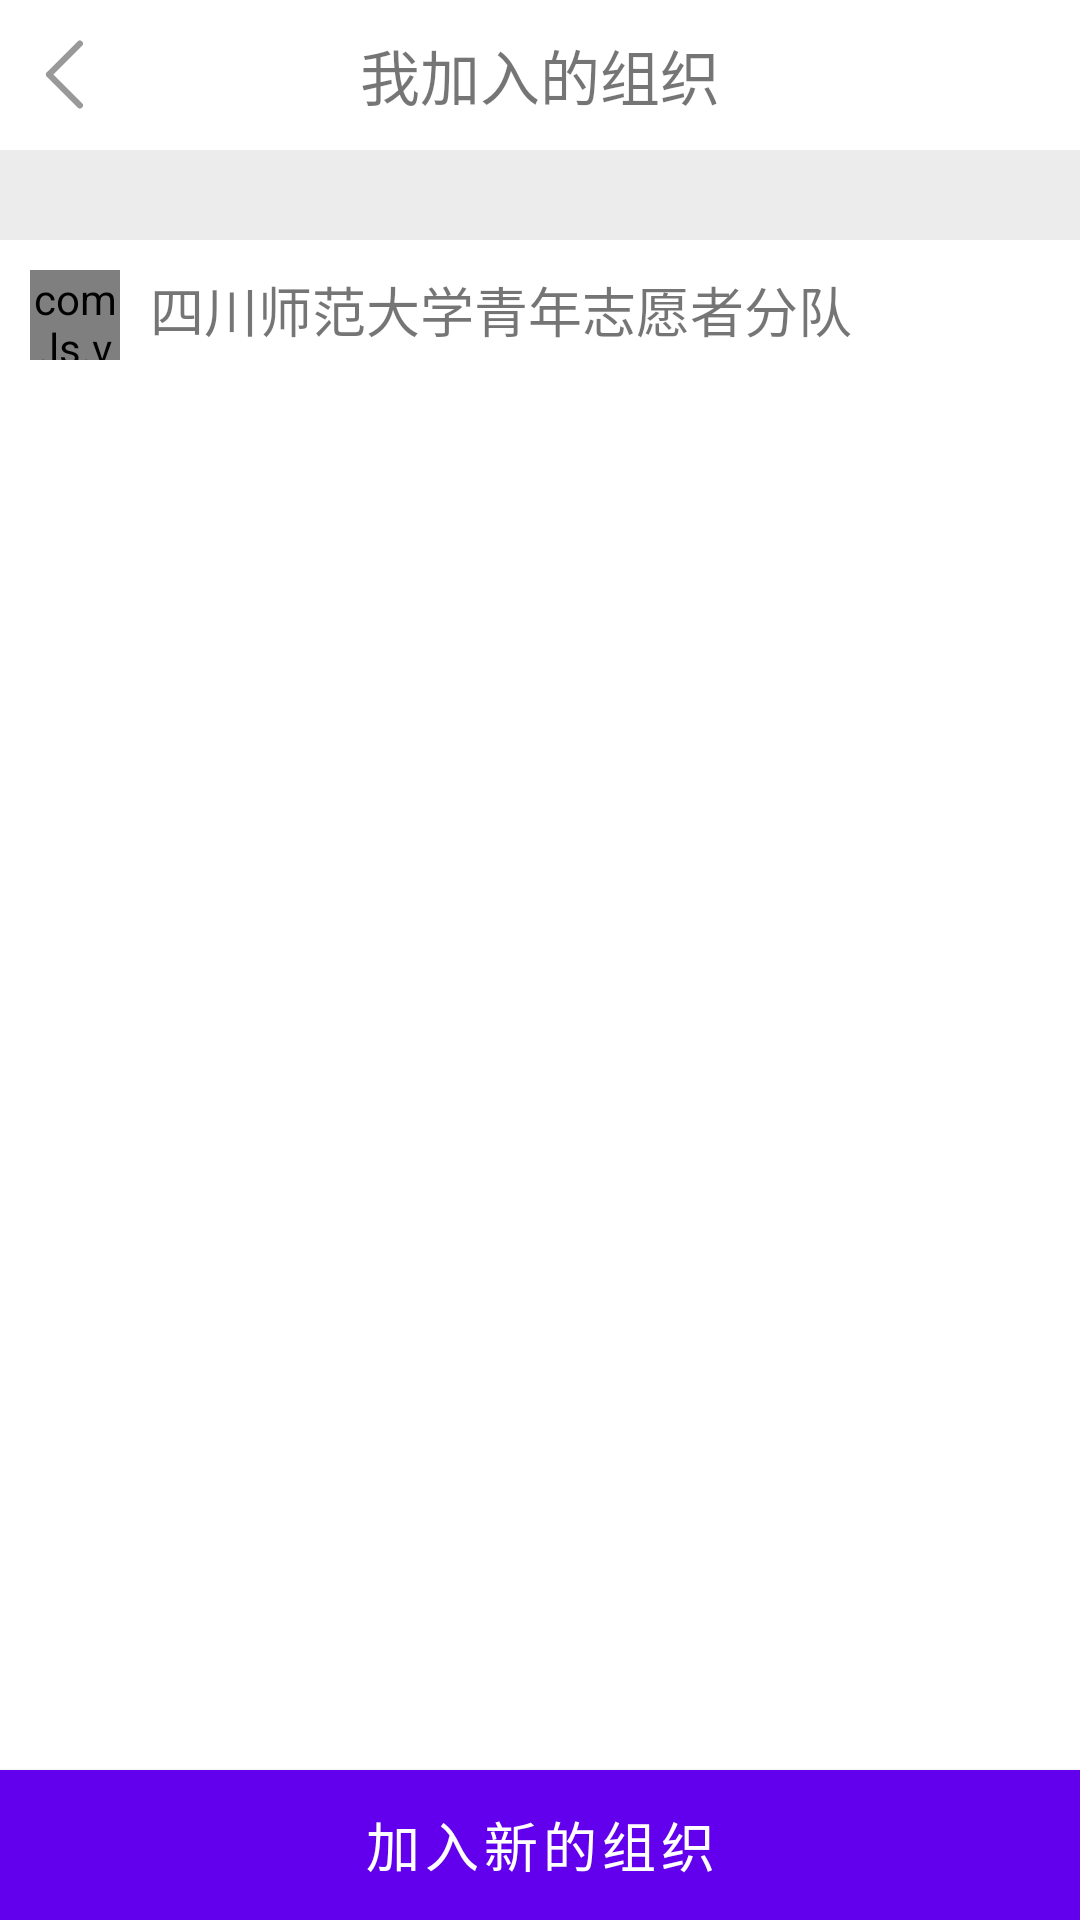

Locate icon controls on the screen. Image size 1080x1920, boxes as (x1, y1, x2, y2).
left arrow: (46, 40, 83, 109)
